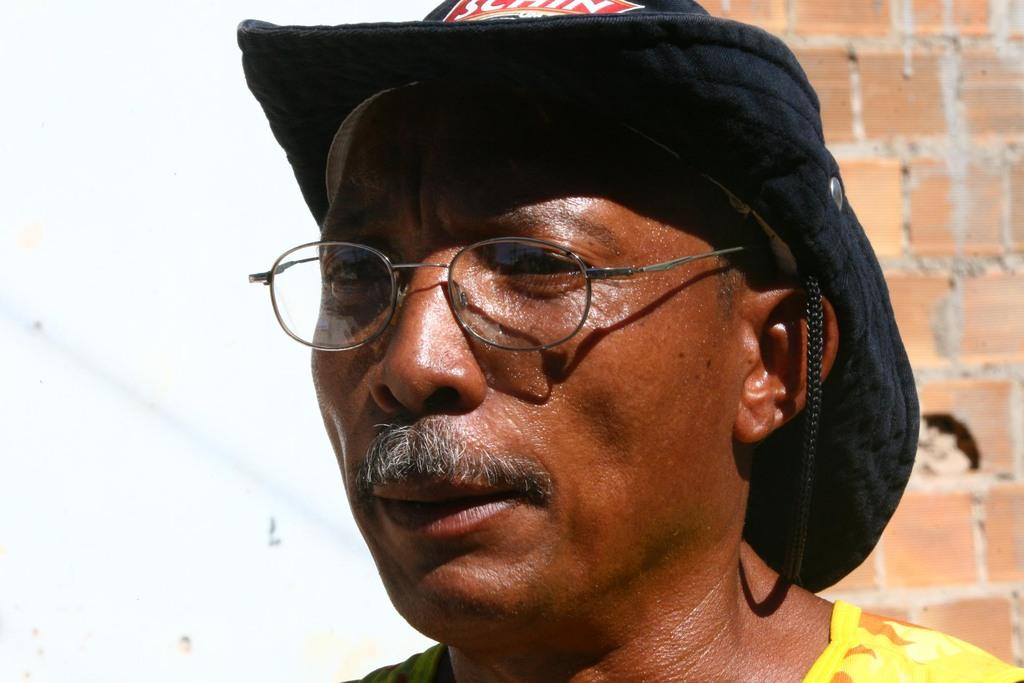Hat: (233, 0, 922, 597)
